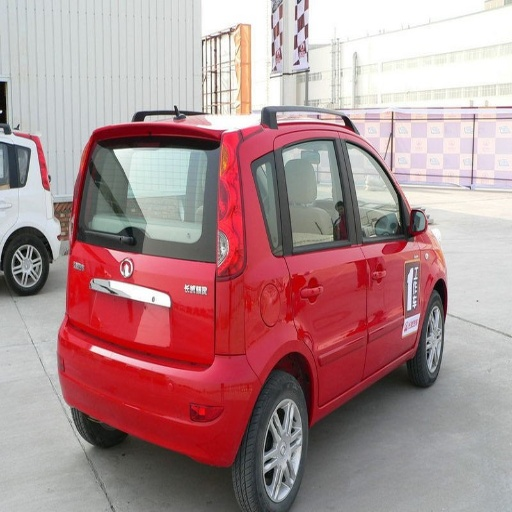back_bumper: (55, 318, 265, 460)
back_right_door: (276, 129, 367, 399)
trunk: (70, 243, 230, 369)
